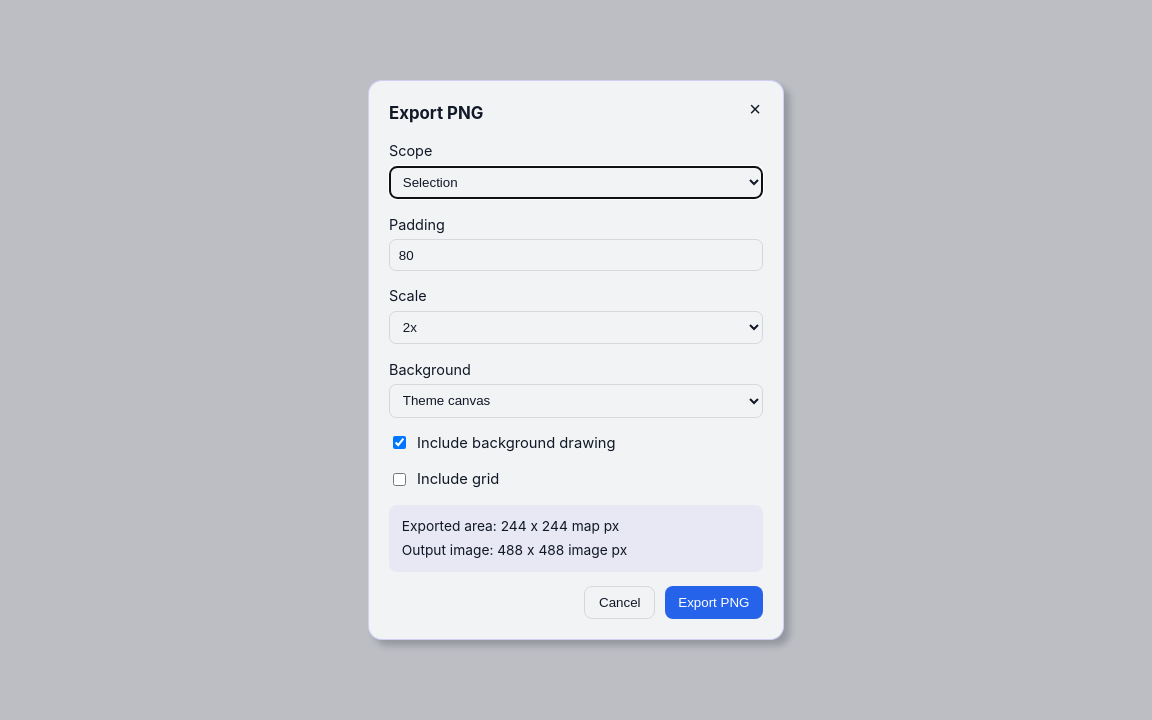
Test case: ExportPngDialog actions › shows a runtime error when export rendering fails and recovers the button state
The image size is (1152, 720).
Step 1. Click the button "Export PNG" → [714, 603], box [665,586,763,619]
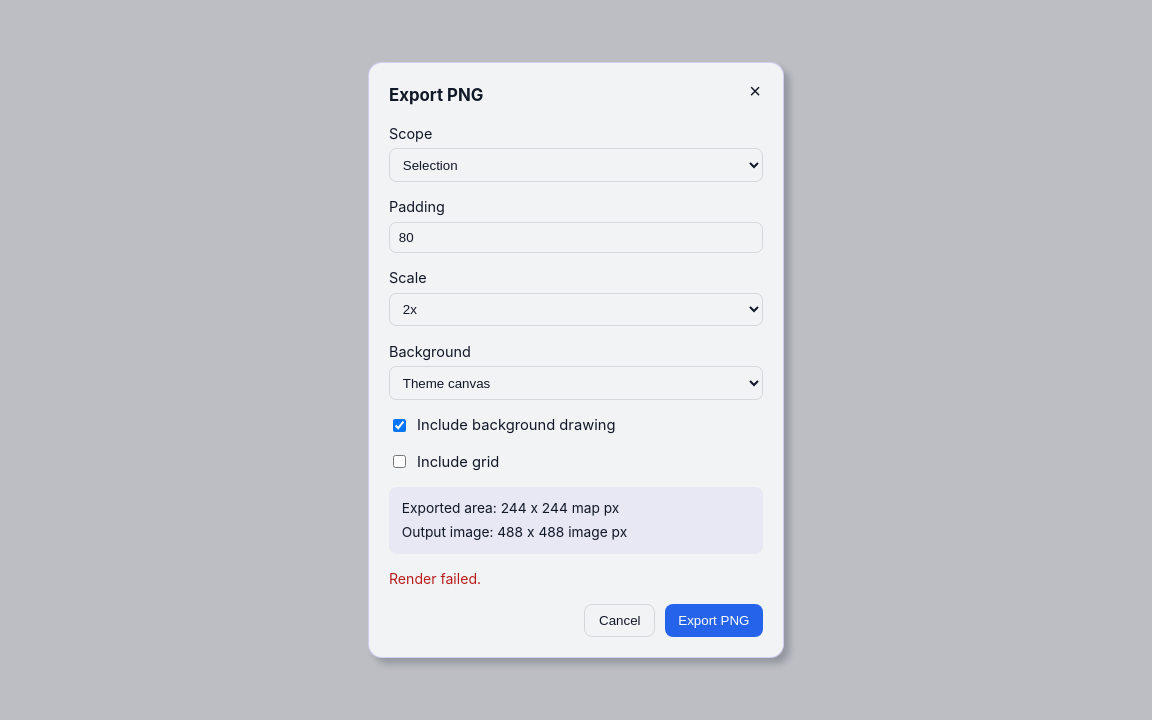
Expected: the button "Export PNG" is enabled, [665,604,763,637]
Expected: the text "Render failed." is shown, [389,570,481,587]
